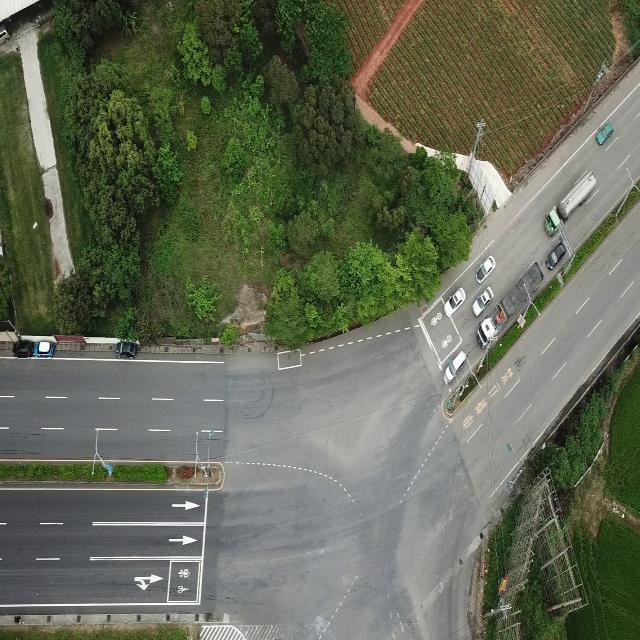vehicle: (477, 262, 544, 349), (544, 170, 596, 238), (444, 350, 467, 384), (444, 287, 466, 317), (472, 287, 494, 316), (474, 255, 496, 283), (546, 242, 566, 271), (596, 121, 615, 145), (32, 340, 55, 358), (114, 342, 138, 359), (12, 342, 34, 358)
